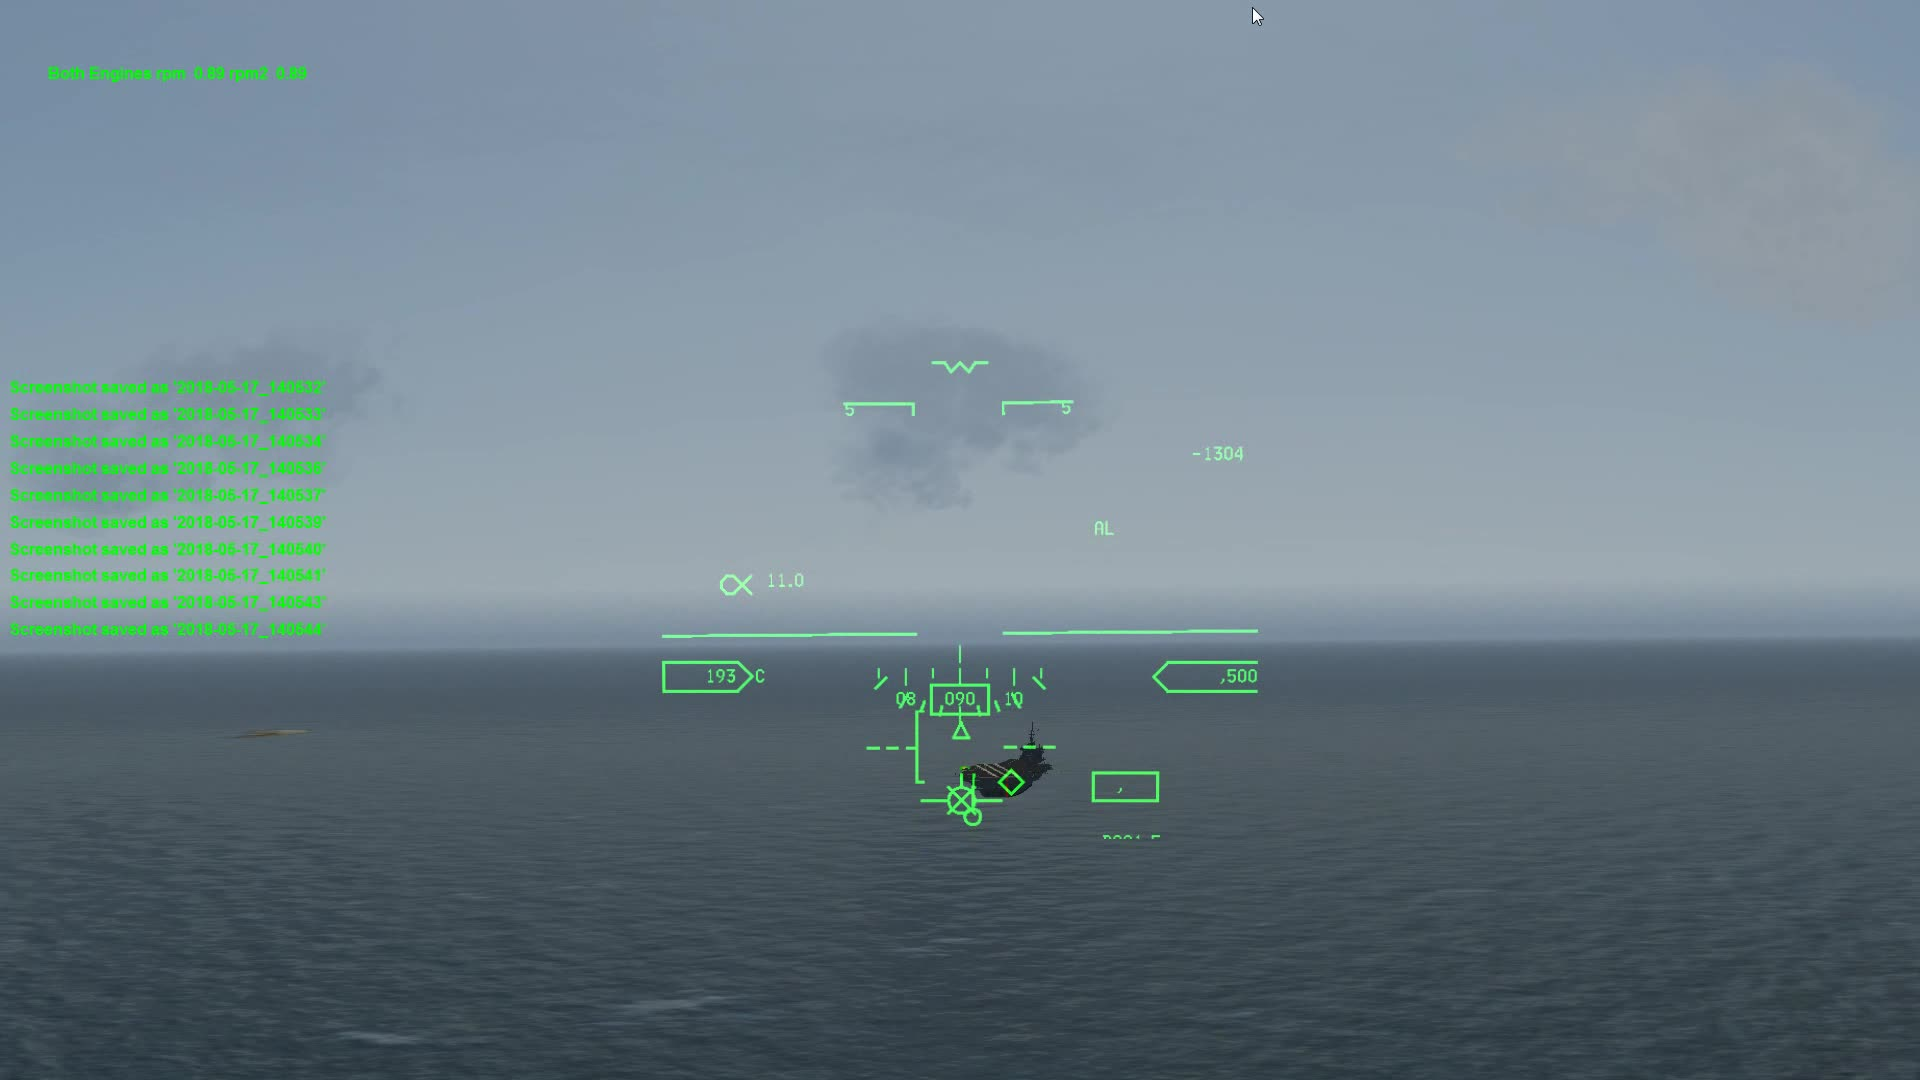speed vector: (927, 783, 1007, 818)
